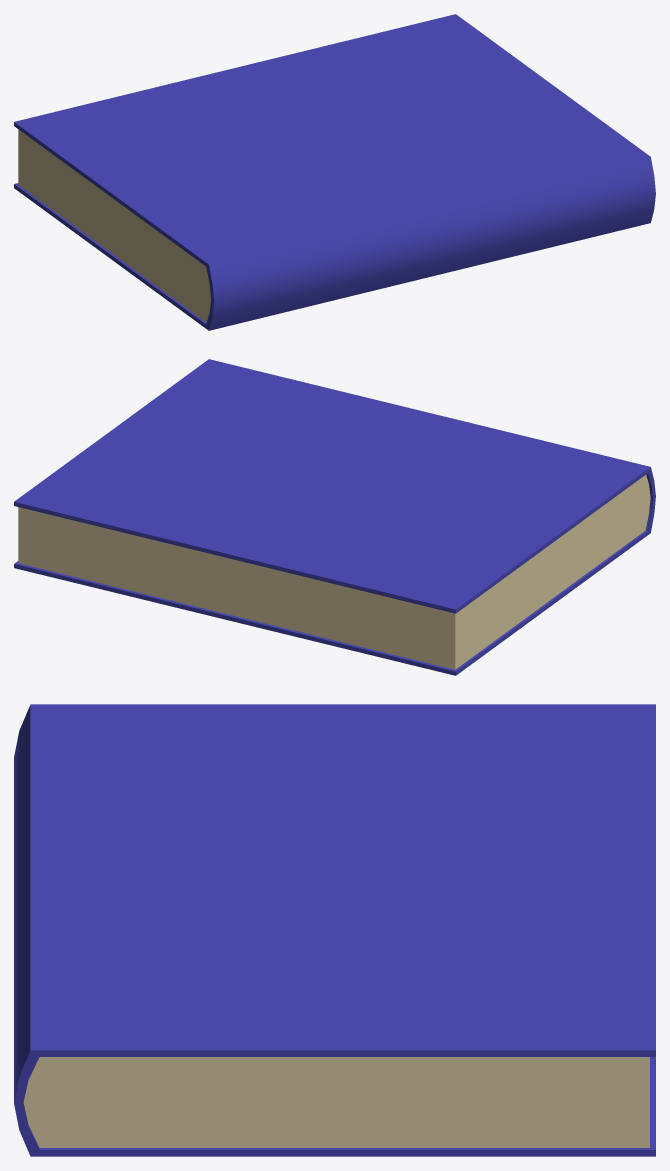
The model's file is book2_New.fbx.
3 renders of one model, top to bottom at view 1: azimuth 30°, elevation 25°; view 2: azimuth 150°, elevation 25°; view 3: azimuth 270°, elevation 25°, orthographic. The views are drawn at different scales.
Parts seen in each view (by area): view 1: pCube4, pCube2; view 2: pCube4, pCube2; view 3: pCube4, pCube2.
Part boxes in pixels (x1,y1,x2,y2): pCube4: [14, 14, 655, 330]; pCube2: [18, 129, 211, 322]; pCube4: [14, 359, 655, 675]; pCube2: [18, 474, 650, 669]; pCube4: [14, 704, 655, 1156]; pCube2: [23, 1057, 649, 1147].
Bounding box in the file's own units: 24.78 × 3.55 × 19.44.
